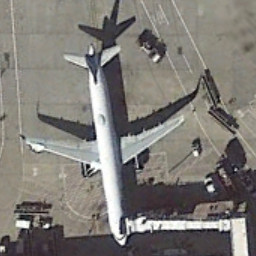Airplane: (17, 36, 201, 252)
